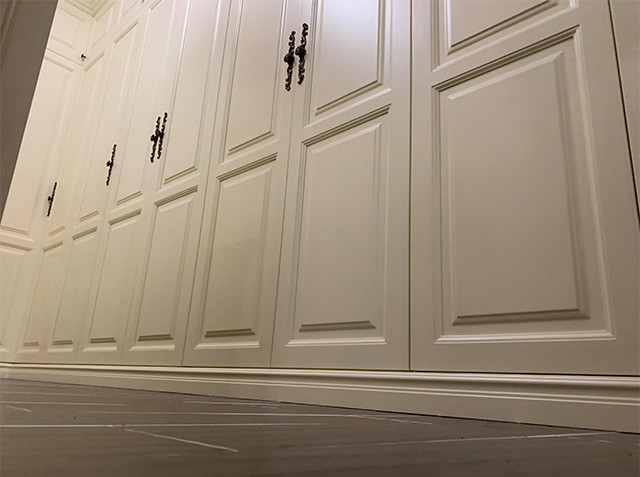cabinet: (1, 1, 640, 432)
